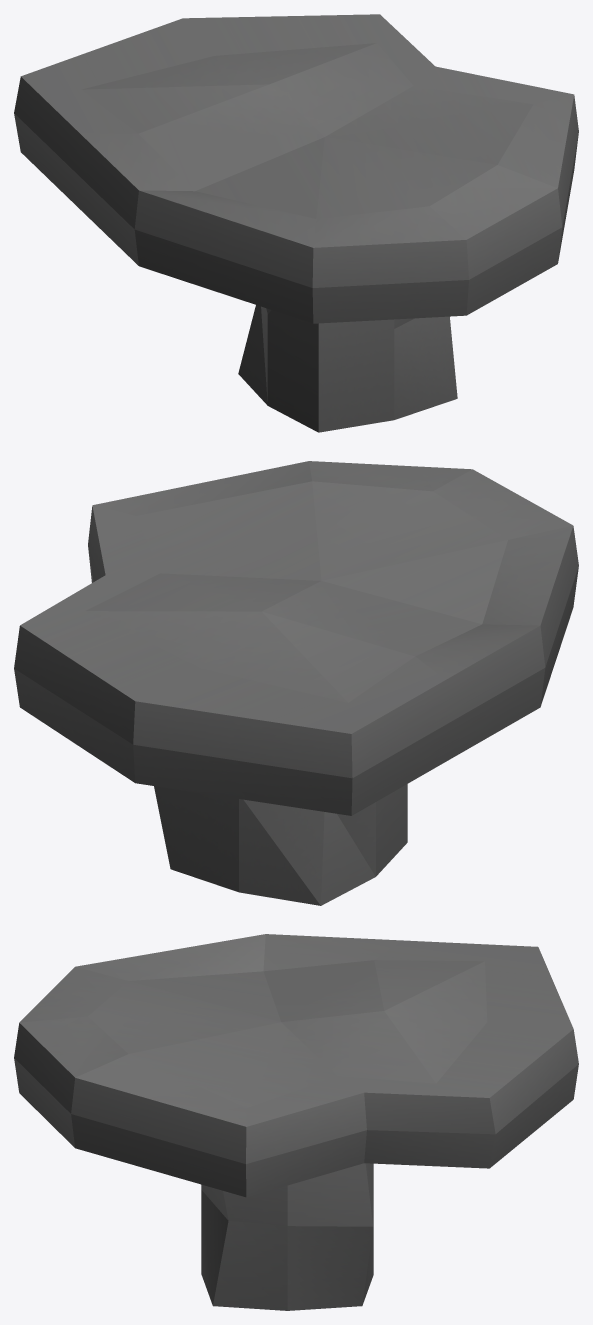
File: Table.fbx
3 views of the same model, one above another, from view 1: azimuth 30°, elevation 25°; view 2: azimuth 150°, elevation 25°; view 3: azimuth 270°, elevation 25° (orthographic). The views are drawn at different scales.
Visible parts, largest first — view 1: Table; view 2: Table; view 3: Table.
Part boxes in pixels (x1=…): Table: x1=14, y1=14, x2=578, y2=432; Table: x1=14, y1=461, x2=578, y2=905; Table: x1=14, y1=934, x2=578, y2=1310.
Bounding box in the file's own units: 138 × 82.02 × 167.
